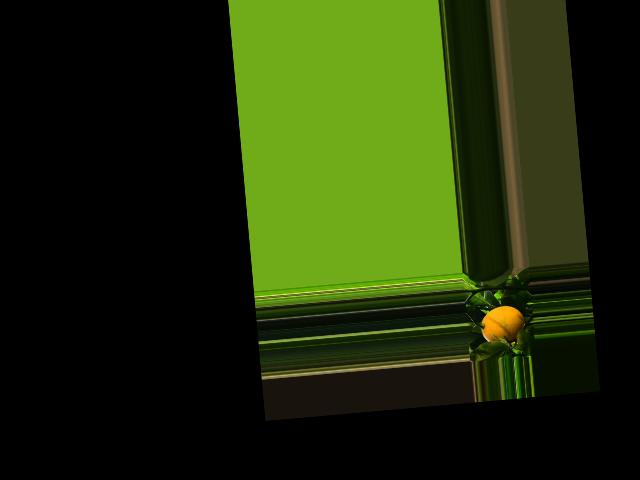lemon: (476, 303, 527, 345)
